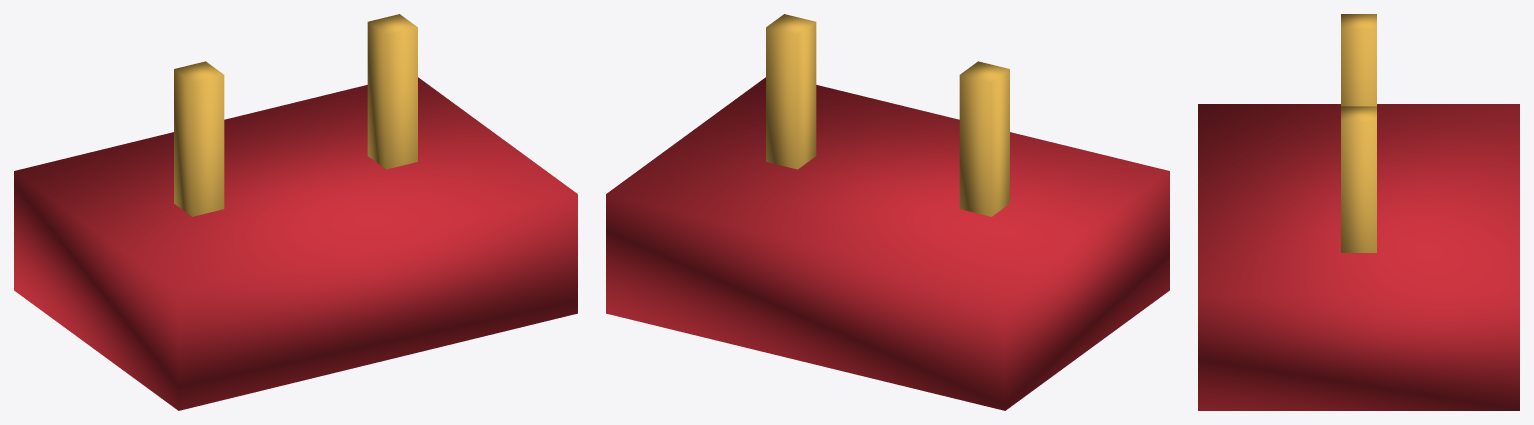
3 views of the same model, side by side, from view 1: azimuth 30°, elevation 25°; view 2: azimuth 150°, elevation 25°; view 3: azimuth 270°, elevation 25° (orthographic). The views are drawn at different scales.
Parts seen in each view (by area): view 1: L104_W125_red, L104_W125_gold; view 2: L104_W125_red, L104_W125_gold; view 3: L104_W125_red, L104_W125_gold.
Part boxes in pixels (x1=…): L104_W125_red: x1=14, y1=77, x2=577, y2=410; L104_W125_gold: x1=174, y1=14, x2=417, y2=216; L104_W125_red: x1=606, y1=77, x2=1169, y2=410; L104_W125_gold: x1=766, y1=14, x2=1009, y2=216; L104_W125_red: x1=1198, y1=104, x2=1519, y2=410; L104_W125_gold: x1=1341, y1=14, x2=1376, y2=252.
Size of the model in its own units: 0.007 by 0.0045 by 0.005.
